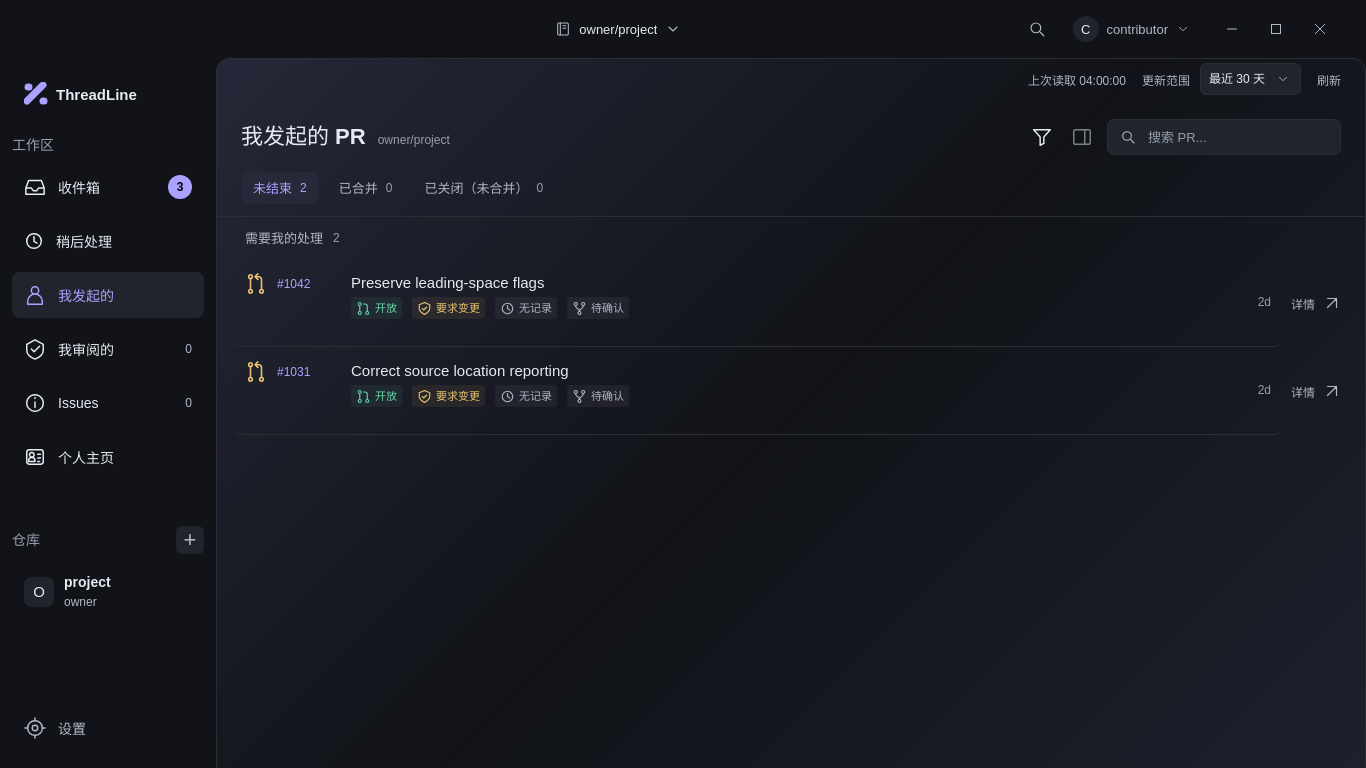
Test: workspace interactions › combines issues and pull requests chronologically with local unread badges
This screenshot has width=1366, height=768.
Expected: the field labelled "搜索 PR" is shown, [1146,128,1328,146]
Click the button "收件箱 3".
click(108, 187)  # box [12,164,204,210]
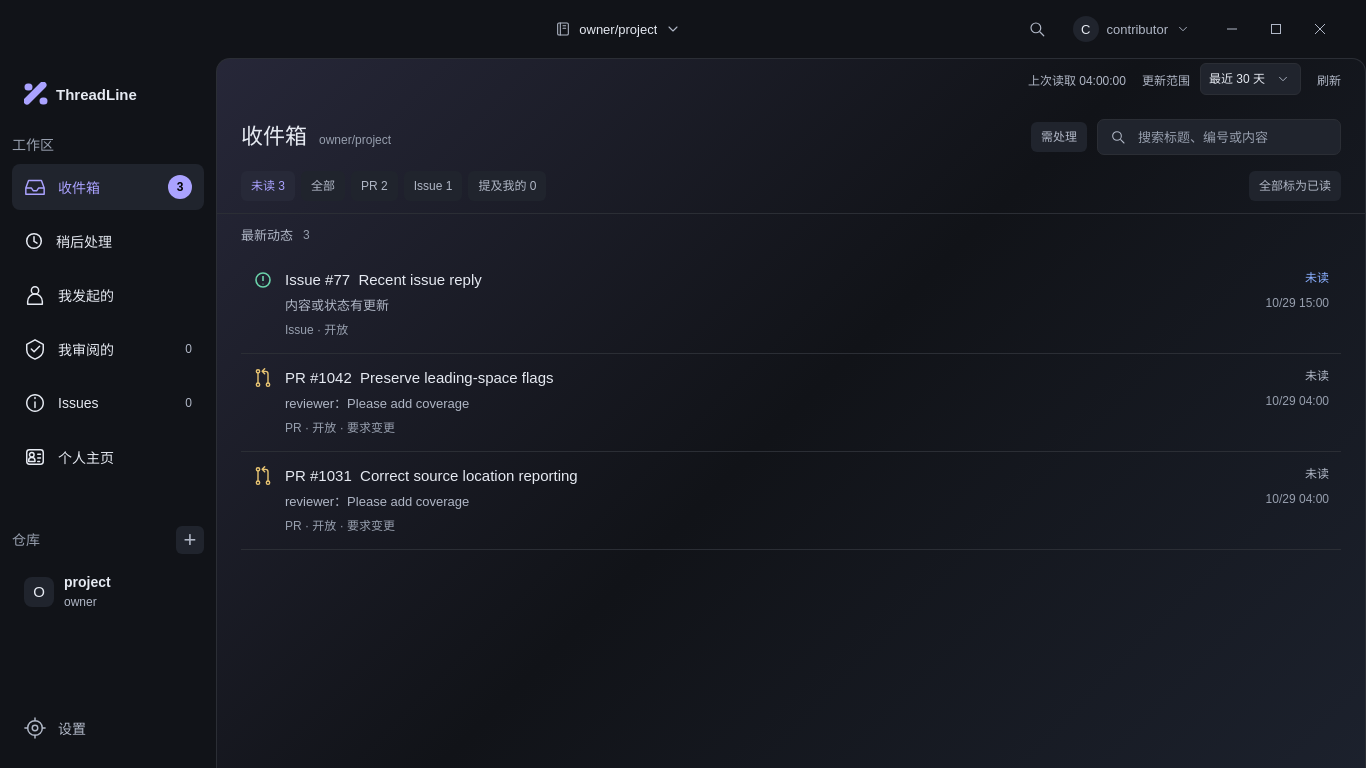
Result: the text "Issue #77" is shown at [241,256,1341,353]
Result: the button with aria-label "要求变更的 PR" shows "PR #1042" at [241,354,1341,451]
Result: the tab "未读 3" is shown at [241,171,295,201]
Click the tab "Issue 1".
click(433, 186)  # box [404,171,462,201]
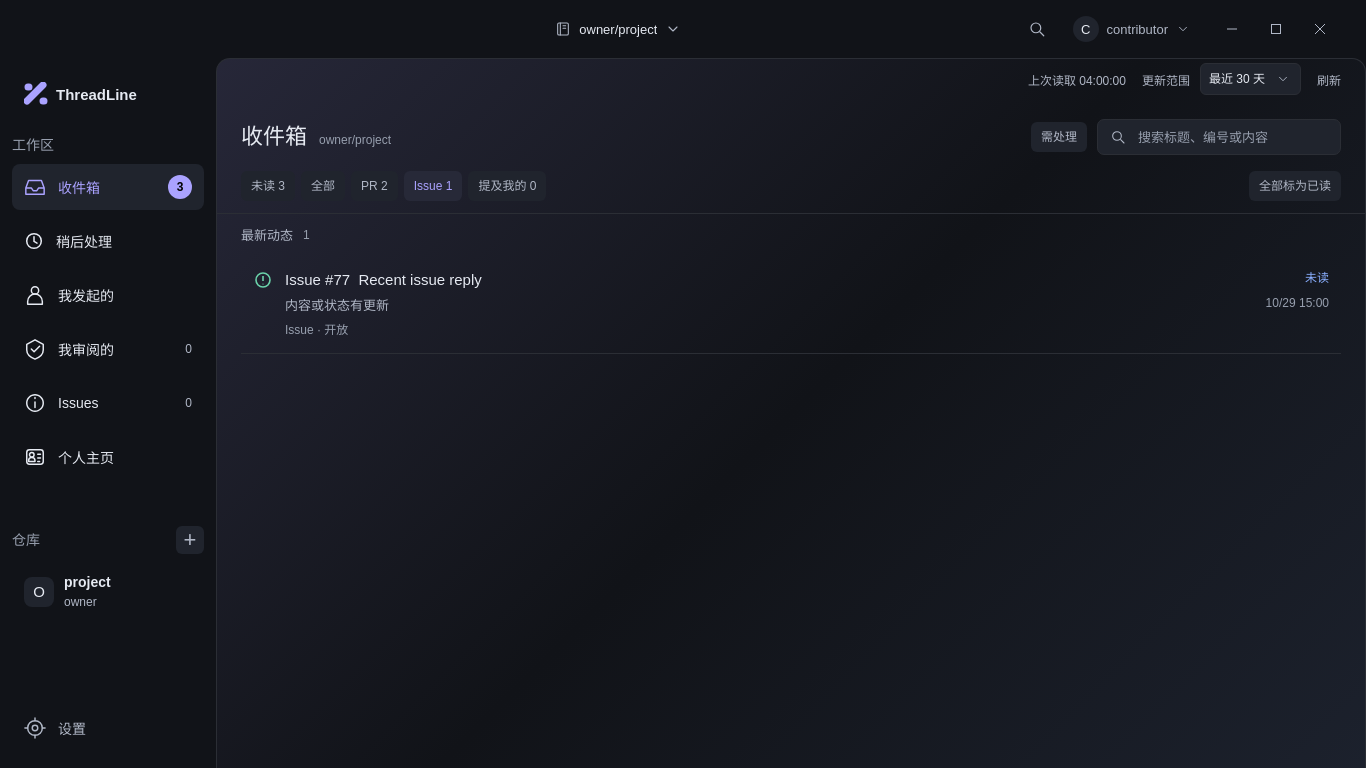
Result: the button "PR #1042" is gone
